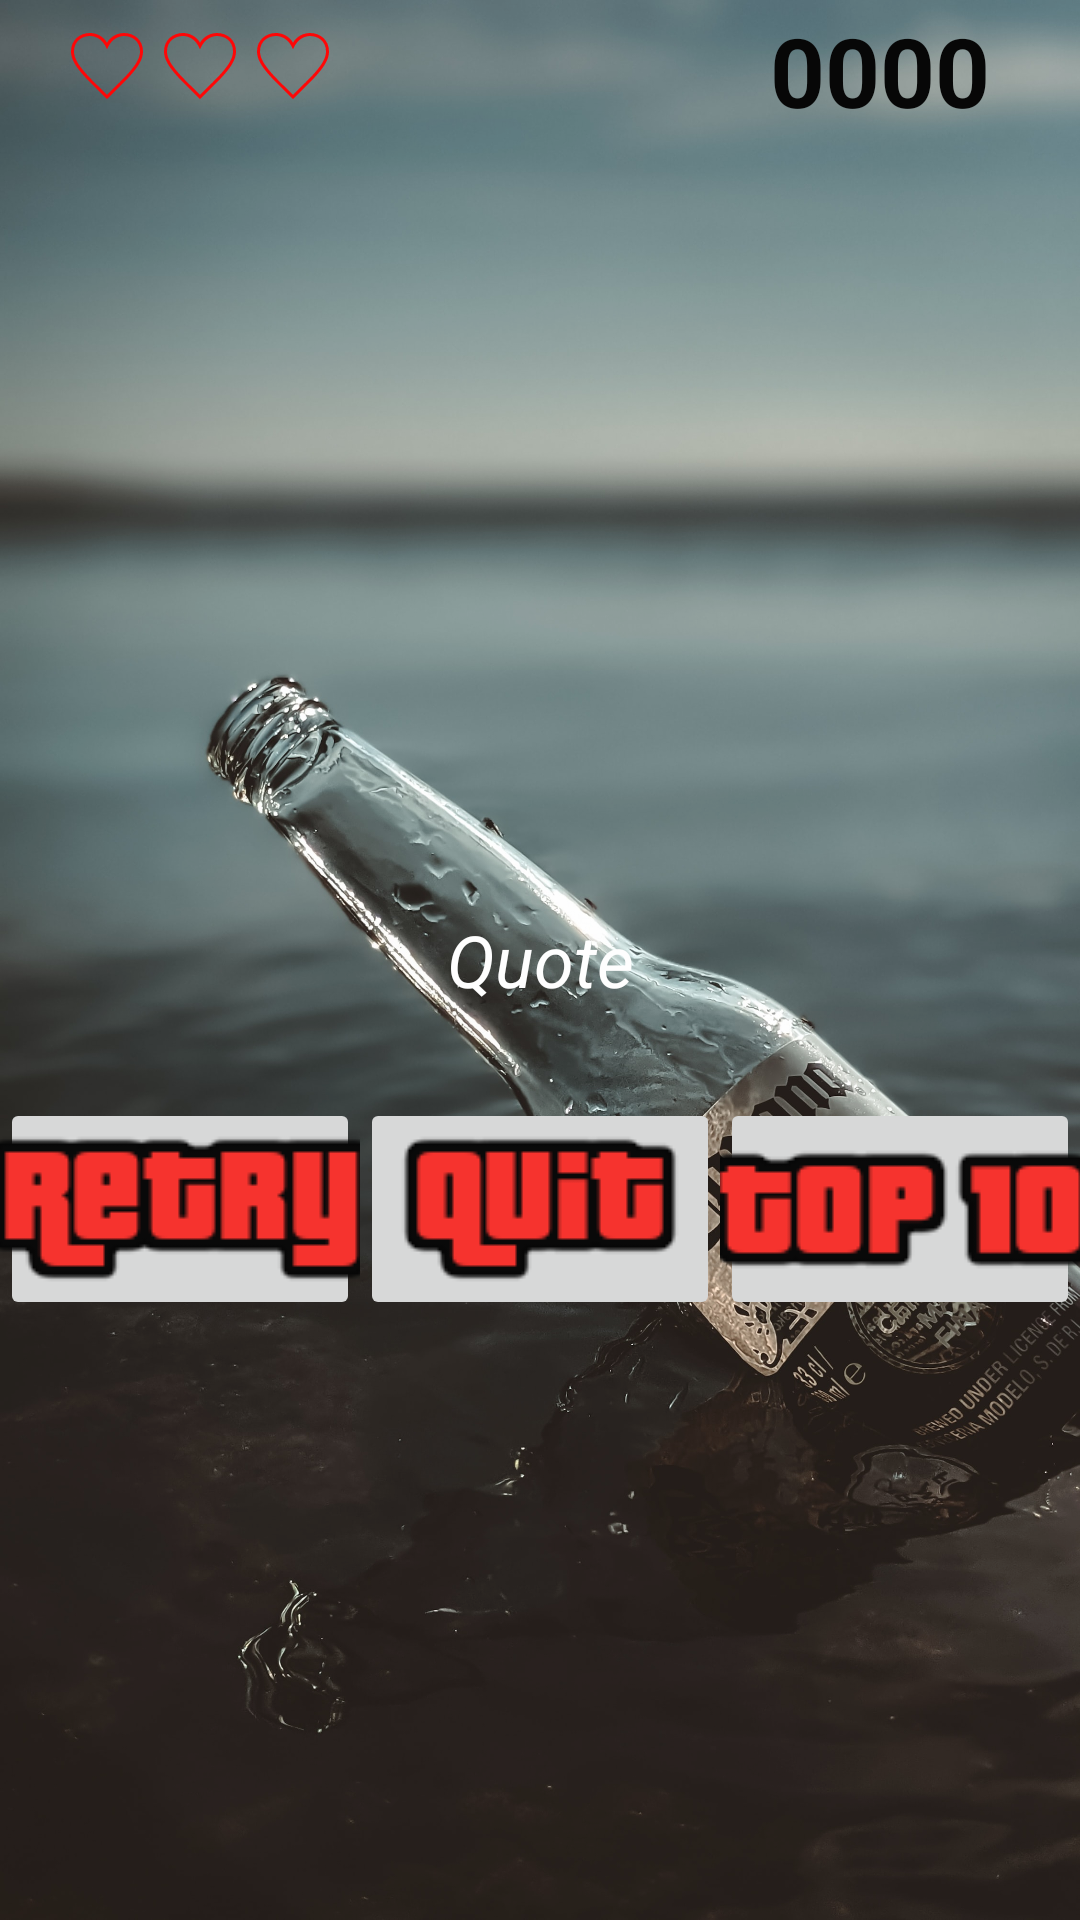

Screen size 1080 × 1920. Icon name, then its box in pixels as region(x1, y1, x2, y2):
empty heart: region(71, 33, 143, 99), region(164, 33, 236, 99), region(257, 33, 329, 99)
